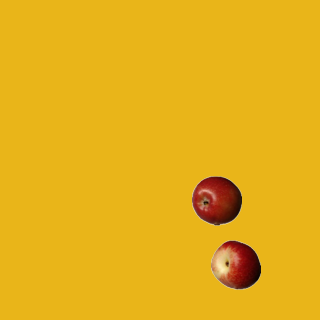Apple Braeburn: (191, 175, 241, 225)
Nectarine: (210, 239, 260, 289)
